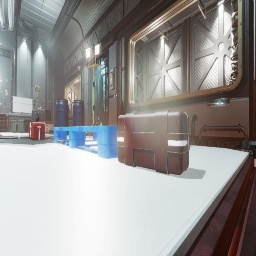EmergencyPhone ,: (4, 88, 8, 96)
FireExtinguisher ]: (68, 131, 69, 135), (0, 112, 2, 113)
FirstAidBox ,: (117, 110, 190, 175), (29, 117, 45, 140)
NitrogenTank ,: (97, 138, 98, 144)
SafetySwitchPanel ,: (110, 68, 115, 90)
